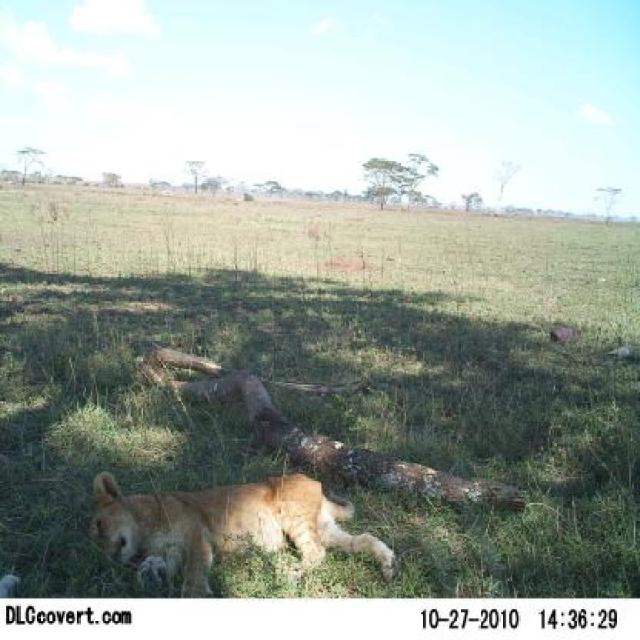Lion: (72, 437, 397, 591)
